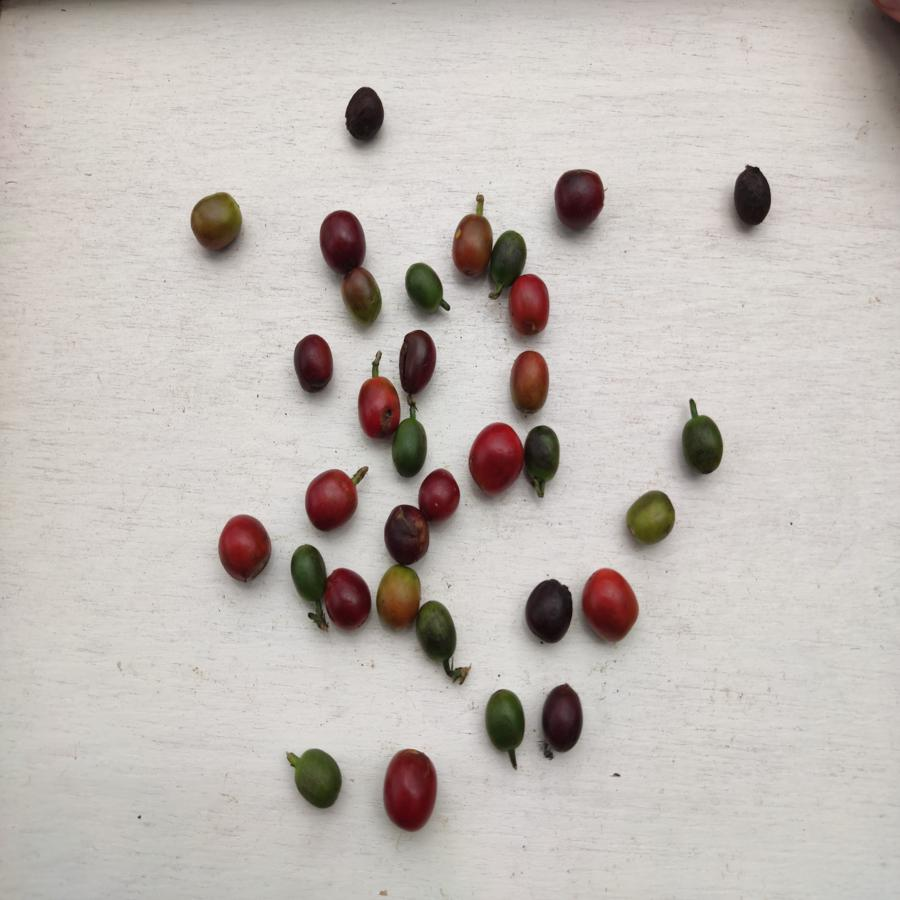Inmaduro: (288, 746, 345, 810), (483, 685, 528, 752), (678, 411, 724, 476), (416, 599, 459, 663), (289, 541, 329, 602), (526, 421, 559, 487), (404, 262, 445, 314), (395, 418, 427, 480), (492, 228, 523, 289)
Maduro: (382, 745, 439, 832), (577, 567, 640, 643), (468, 420, 525, 499), (213, 514, 275, 581), (302, 464, 359, 532), (511, 271, 555, 340), (356, 376, 402, 440), (418, 469, 459, 522)
Pinton: (504, 349, 553, 417), (190, 191, 241, 251), (623, 489, 676, 544), (375, 563, 421, 626), (450, 212, 492, 280), (340, 269, 386, 324)
Sobremaduro: (551, 163, 606, 231), (523, 576, 575, 644), (316, 208, 368, 271), (537, 682, 582, 754), (324, 567, 373, 630), (396, 326, 438, 396), (385, 506, 430, 567), (341, 85, 387, 143), (293, 330, 333, 395), (734, 164, 773, 227)
